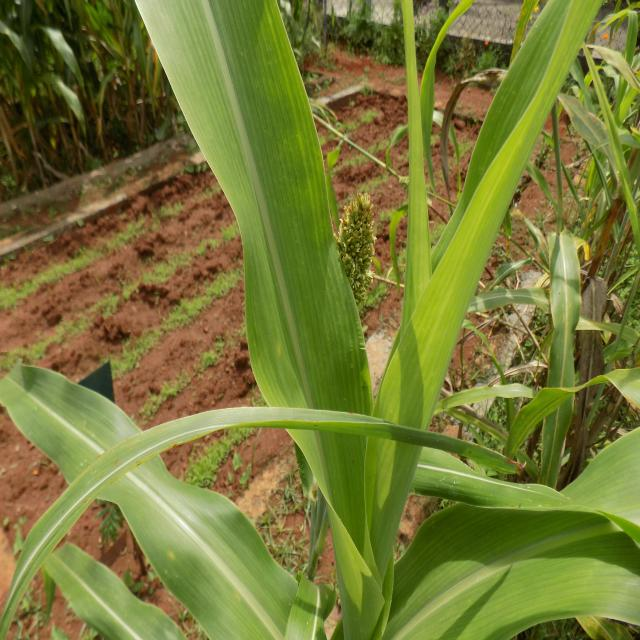millet_healthy: (369, 4, 604, 582), (132, 0, 376, 550), (1, 406, 521, 640), (0, 358, 299, 640), (402, 455, 640, 640), (44, 545, 185, 640), (546, 225, 582, 489)
